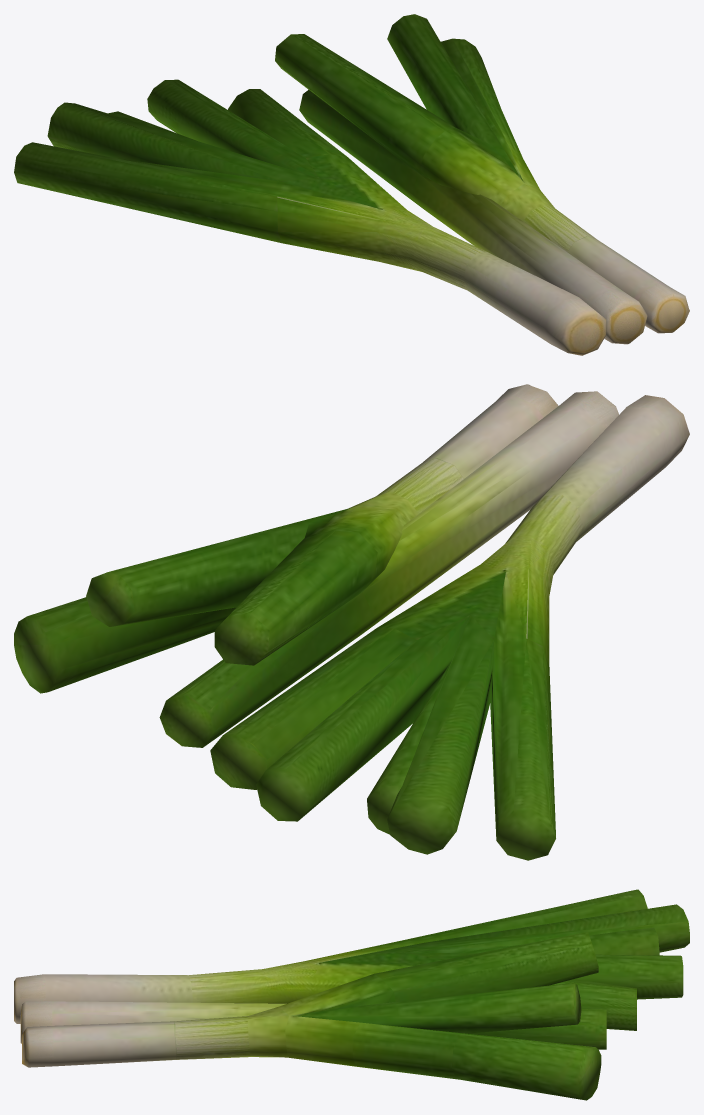
File: green_onion_M.fbx
3 views of the same model, one above another, from view 1: azimuth 30°, elevation 25°; view 2: azimuth 150°, elevation 25°; view 3: azimuth 270°, elevation 25° (orthographic). The views are drawn at different scales.
Parts seen in each view (by area): view 1: tripo_node_087b1187; view 2: tripo_node_087b1187; view 3: tripo_node_087b1187.
Boxes of the visible parts, box(x1,y1,x2,y2) form: tripo_node_087b1187: box(14, 14, 689, 355); tripo_node_087b1187: box(14, 384, 689, 860); tripo_node_087b1187: box(14, 889, 689, 1100).
Bounding box in the file's own units: 0.709 × 0.1699 × 0.998.
